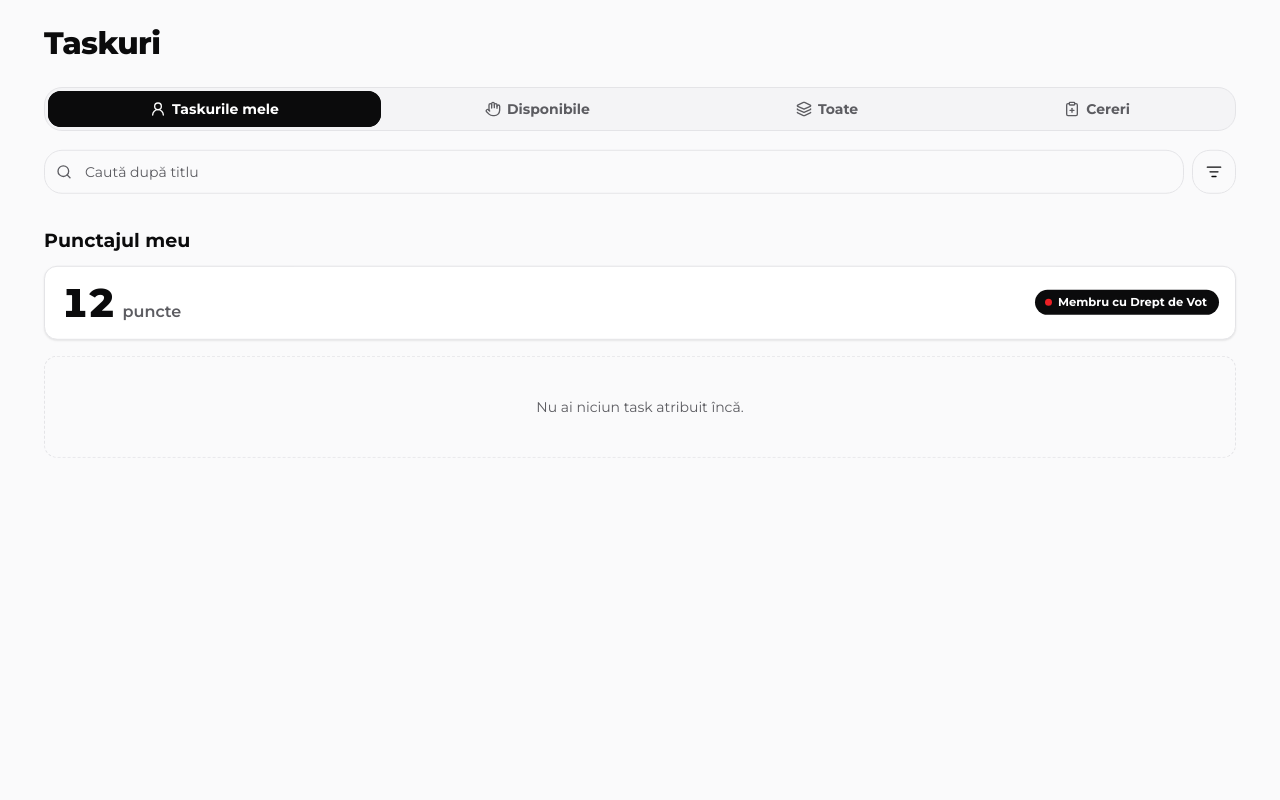
Test: My tasks screen › uses live server capability to show All despite stale advisory claims
Click the tab "Toate": point(827, 109) [694, 91, 960, 127]
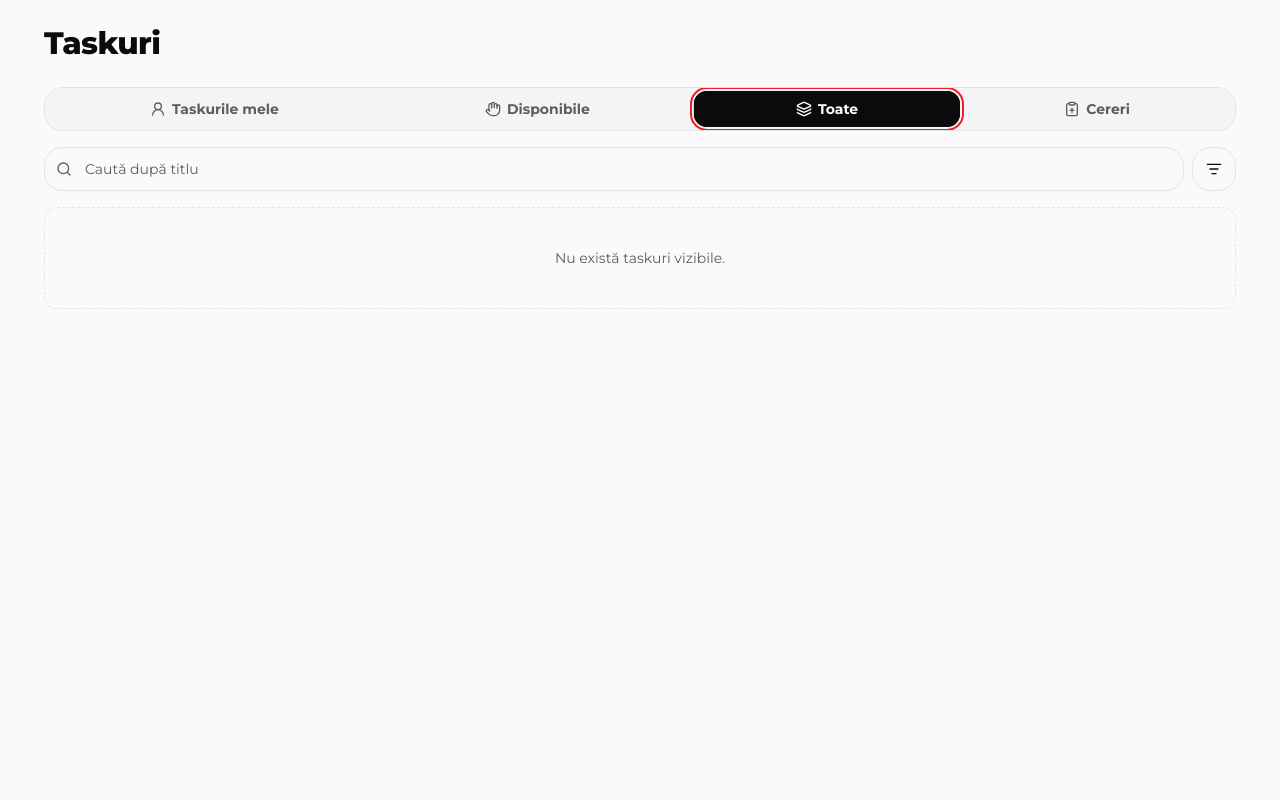
Expected: the text "Nu există taskuri vizibile." is shown, [555, 248, 725, 268]
